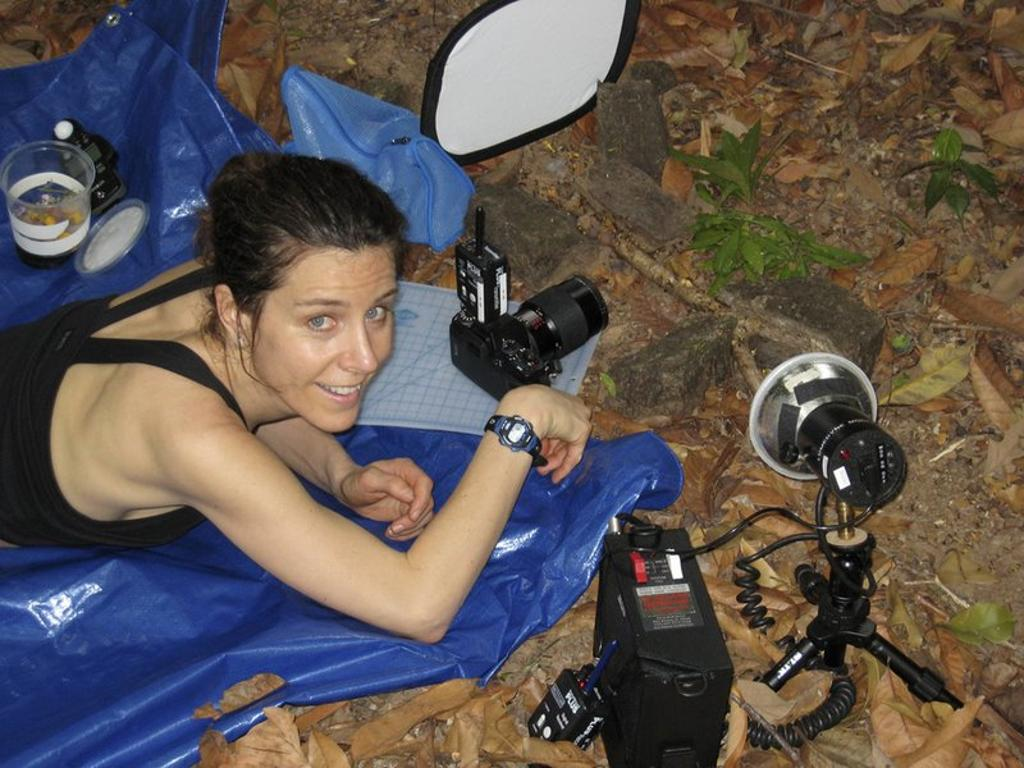face: (254, 246, 404, 430)
